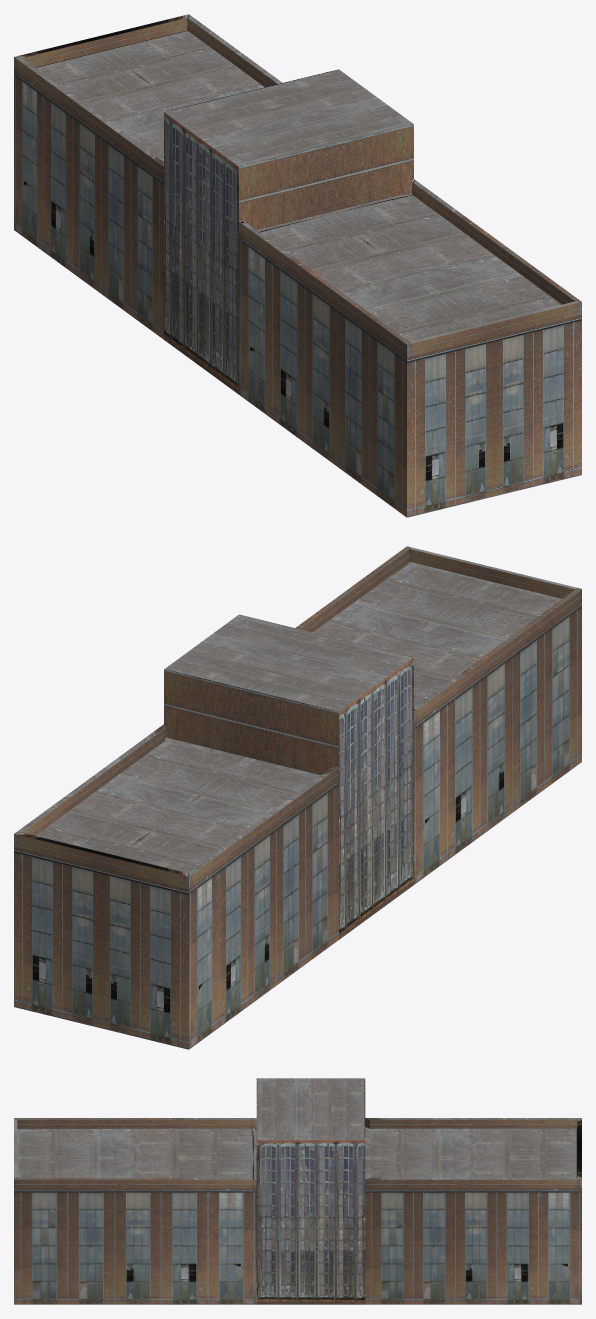
3 renders of one model, top to bottom at view 1: azimuth 30°, elevation 25°; view 2: azimuth 150°, elevation 25°; view 3: azimuth 270°, elevation 25°, orthographic. The views are drawn at different scales.
Visible parts, largest first — view 1: polySurface33; view 2: polySurface33; view 3: polySurface33.
Part boxes in pixels (box(x1,y1,x2,y2)): polySurface33: box(14, 14, 581, 517); polySurface33: box(14, 546, 581, 1049); polySurface33: box(14, 1078, 581, 1304).
Bounding box in the file's own units: 8.48 × 10.55 × 33.
1 material, 1 textured.
